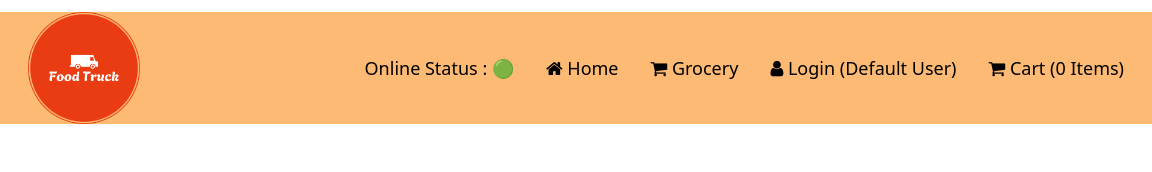
should change Login button into Logout button
Click the button "Login (Default User)" at point(863, 68), box [754,54,972,82]
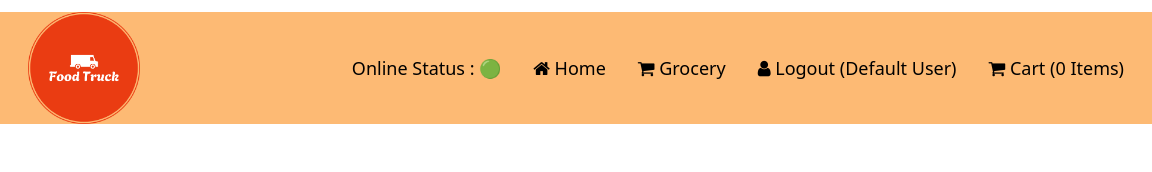
Expected: the button "Logout (Default User)" is shown, [742,54,973,82]
